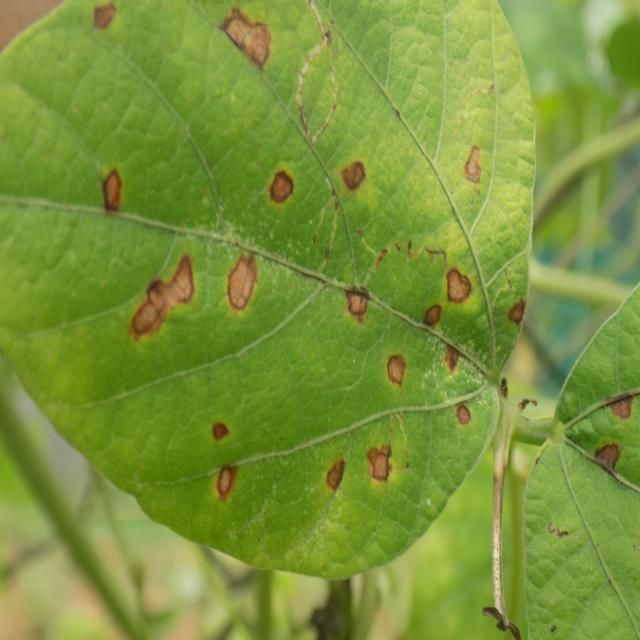Dolicos bean_cercospora leaf spot: (0, 0, 536, 584)
